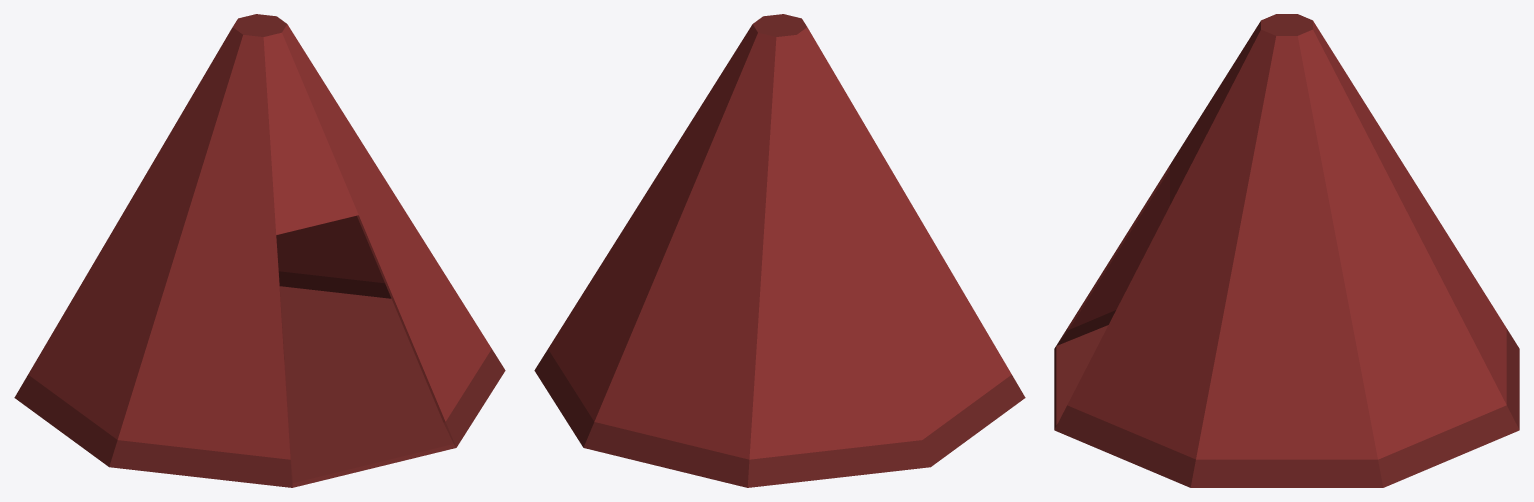
Rendered from Tent_3_Red.fbx.
3 views of the same model, side by side, from view 1: azimuth 30°, elevation 25°; view 2: azimuth 150°, elevation 25°; view 3: azimuth 270°, elevation 25° (orthographic).
Parts seen in each view (by area): view 1: Tent_2_Red; view 2: Tent_2_Red; view 3: Tent_2_Red.
Boxes of the visible parts, <box> form: Tent_2_Red: <box>14,14,505,487</box>; Tent_2_Red: <box>534,14,1025,487</box>; Tent_2_Red: <box>1054,14,1519,487</box>.
Size of the model in its own units: 240 by 208 by 240.
